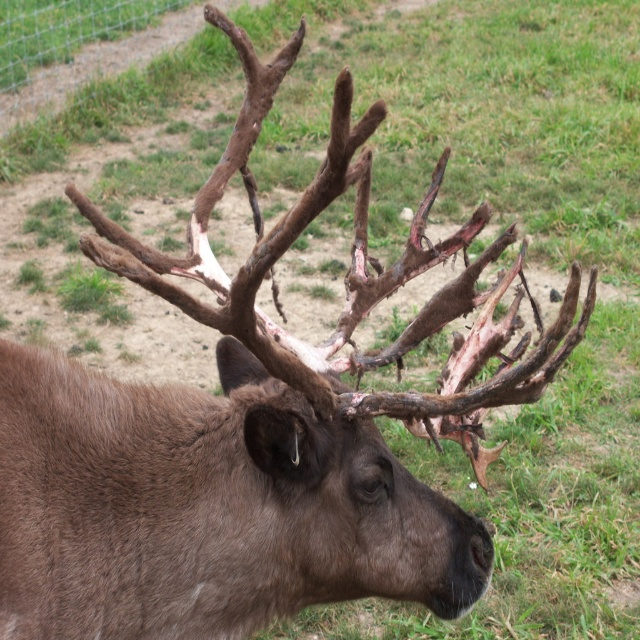Deer: (0, 4, 599, 639)
